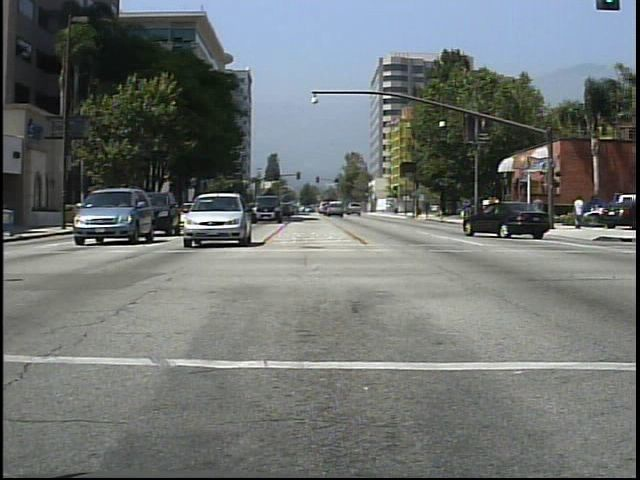person: (530, 192, 549, 232), (572, 192, 587, 234)
